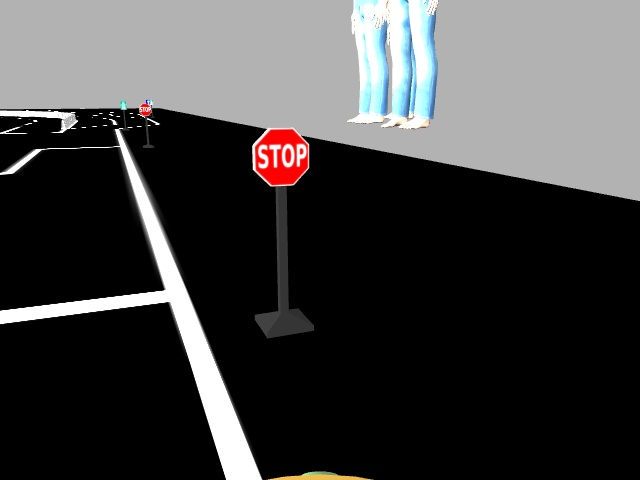Stop: (247, 127, 310, 186)
